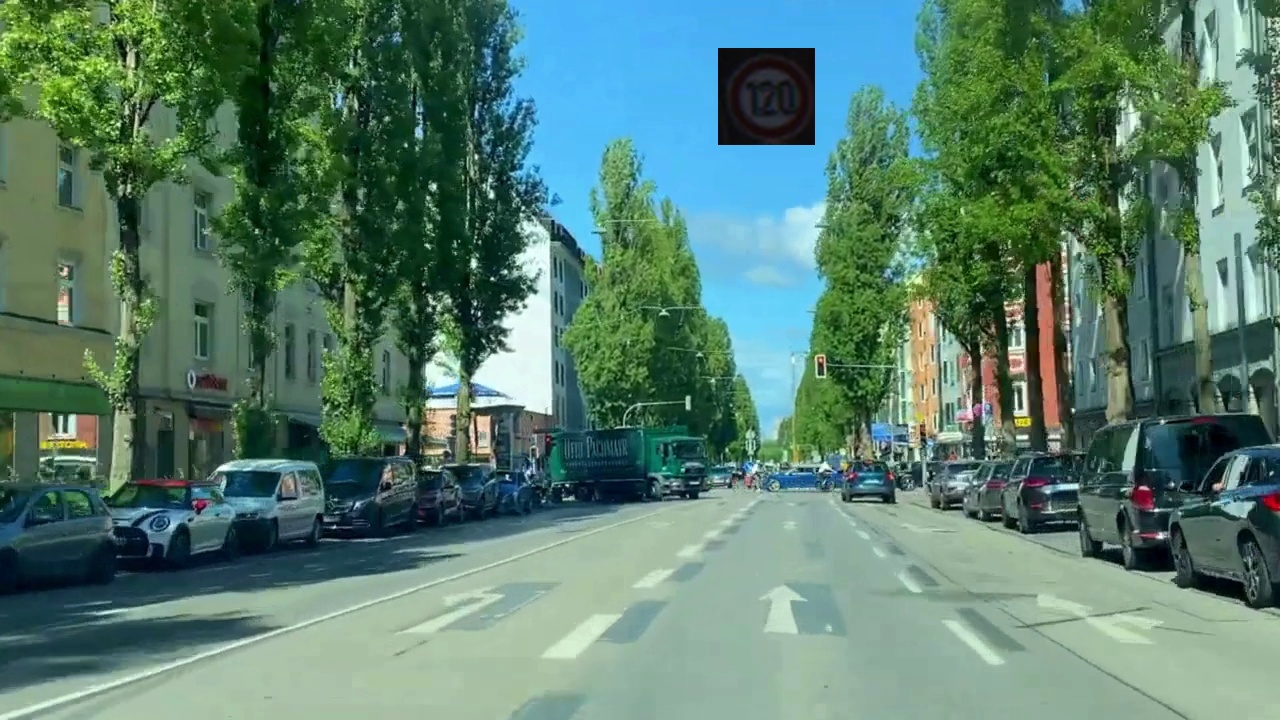Speed 120: (718, 48, 815, 145)
